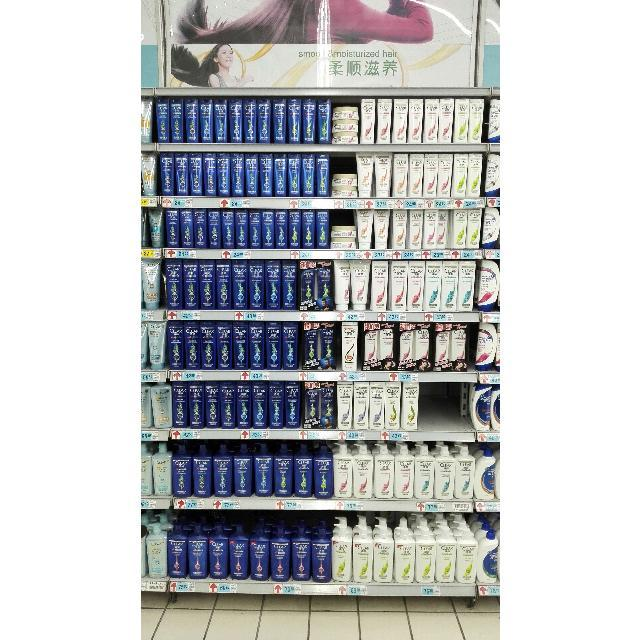empty: (419, 382, 471, 432)
